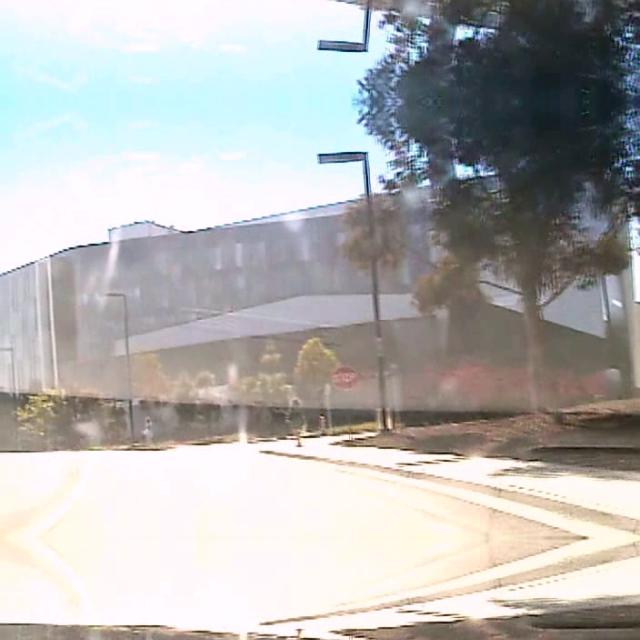stop: (331, 364, 357, 390)
